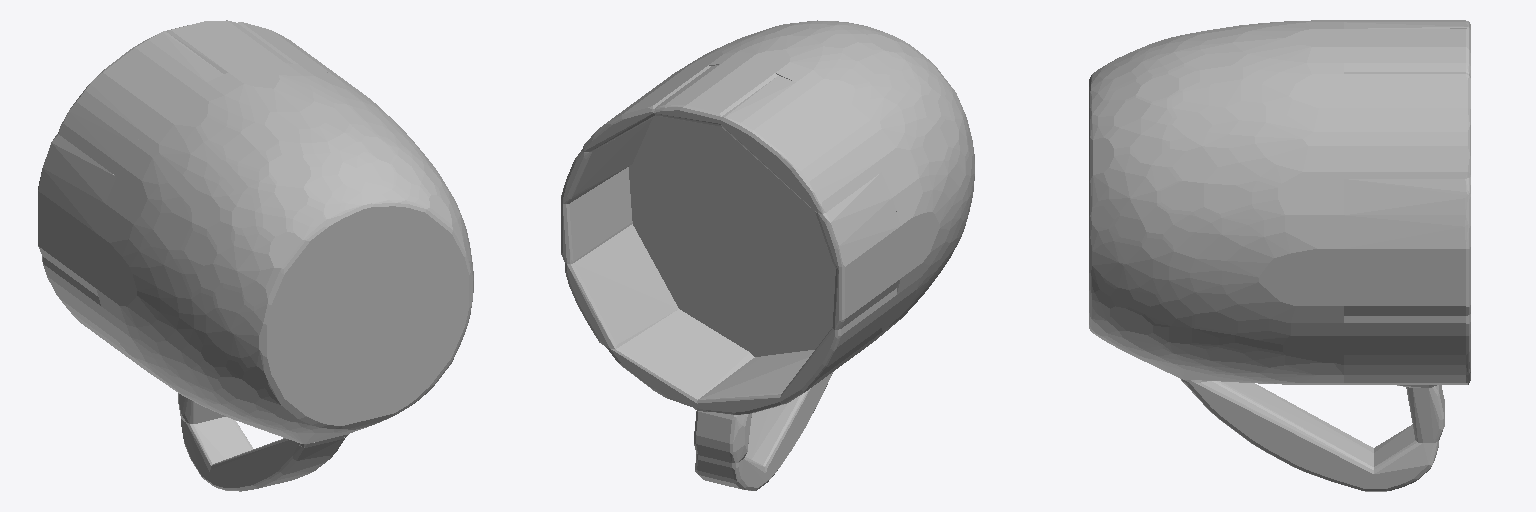
robot.urdf — root:
<robot name="root">
  <link name="link_coacd_convex_piece_0">
    <inertial>
      <origin xyz="0 0 0" rpy="0 0 0"/>
      <inertia ixx="8.38E-02" ixy="-2.96E-05" ixz="1.51E-05" iyy="9.46E-02" iyz="3.16E-03" izz="8.04E-02"/>
    </inertial>
    <visual>
      <origin xyz="0 0 0" rpy="0 0 0"/>
      <geometry>
        <mesh filename="coacd_convex_piece_0.obj" scale="1.0000E+00 1.0000E+00 1.0000E+00"/>
      </geometry>
      <material name="">
        <color rgba="7.50E-01 7.50E-01 7.50E-01 1"/>
      </material>
    </visual>
    <collision>
      <origin xyz="0 0 0" rpy="0 0 0"/>
      <geometry>
        <mesh filename="coacd_convex_piece_0.obj" scale="1.0000E+00 1.0000E+00 1.0000E+00"/>
      </geometry>
    </collision>
  </link>
  <link name="link_coacd_convex_piece_1">
    <inertial>
      <origin xyz="0 0 0" rpy="0 0 0"/>
      <inertia ixx="2.86E-05" ixy="3.21E-07" ixz="4.54E-07" iyy="2.03E-05" iyz="-2.23E-05" izz="9.23E-06"/>
    </inertial>
    <visual>
      <origin xyz="0 0 0" rpy="0 0 0"/>
      <geometry>
        <mesh filename="coacd_convex_piece_1.obj" scale="1.0000E+00 1.0000E+00 1.0000E+00"/>
      </geometry>
      <material name="">
        <color rgba="7.50E-01 7.50E-01 7.50E-01 1"/>
      </material>
    </visual>
    <collision>
      <origin xyz="0 0 0" rpy="0 0 0"/>
      <geometry>
        <mesh filename="coacd_convex_piece_1.obj" scale="1.0000E+00 1.0000E+00 1.0000E+00"/>
      </geometry>
    </collision>
  </link>
  <joint name="link_coacd_convex_piece_1_joint" type="fixed">
    <origin xyz="0 0 0" rpy="0 0 0"/>
    <parent link="link_coacd_convex_piece_0"/>
    <child link="link_coacd_convex_piece_1"/>
  </joint>
  <link name="link_coacd_convex_piece_2">
    <inertial>
      <origin xyz="0 0 0" rpy="0 0 0"/>
      <inertia ixx="1.52E-05" ixy="1.11E-09" ixz="-4.69E-09" iyy="1.29E-05" iyz="5.42E-06" izz="2.35E-06"/>
    </inertial>
    <visual>
      <origin xyz="0 0 0" rpy="0 0 0"/>
      <geometry>
        <mesh filename="coacd_convex_piece_2.obj" scale="1.0000E+00 1.0000E+00 1.0000E+00"/>
      </geometry>
      <material name="">
        <color rgba="7.50E-01 7.50E-01 7.50E-01 1"/>
      </material>
    </visual>
    <collision>
      <origin xyz="0 0 0" rpy="0 0 0"/>
      <geometry>
        <mesh filename="coacd_convex_piece_2.obj" scale="1.0000E+00 1.0000E+00 1.0000E+00"/>
      </geometry>
    </collision>
  </link>
  <joint name="link_coacd_convex_piece_2_joint" type="fixed">
    <origin xyz="0 0 0" rpy="0 0 0"/>
    <parent link="link_coacd_convex_piece_1"/>
    <child link="link_coacd_convex_piece_2"/>
  </joint>
  <link name="link_coacd_convex_piece_3">
    <inertial>
      <origin xyz="0 0 0" rpy="0 0 0"/>
      <inertia ixx="6.59E-03" ixy="1.41E-03" ixz="2.18E-03" iyy="5.85E-03" iyz="-3.49E-03" izz="3.03E-03"/>
    </inertial>
    <visual>
      <origin xyz="0 0 0" rpy="0 0 0"/>
      <geometry>
        <mesh filename="coacd_convex_piece_3.obj" scale="1.0000E+00 1.0000E+00 1.0000E+00"/>
      </geometry>
      <material name="">
        <color rgba="7.50E-01 7.50E-01 7.50E-01 1"/>
      </material>
    </visual>
    <collision>
      <origin xyz="0 0 0" rpy="0 0 0"/>
      <geometry>
        <mesh filename="coacd_convex_piece_3.obj" scale="1.0000E+00 1.0000E+00 1.0000E+00"/>
      </geometry>
    </collision>
  </link>
  <joint name="link_coacd_convex_piece_3_joint" type="fixed">
    <origin xyz="0 0 0" rpy="0 0 0"/>
    <parent link="link_coacd_convex_piece_2"/>
    <child link="link_coacd_convex_piece_3"/>
  </joint>
  <link name="link_coacd_convex_piece_4">
    <inertial>
      <origin xyz="0 0 0" rpy="0 0 0"/>
      <inertia ixx="3.79E-04" ixy="2.49E-07" ixz="-3.35E-07" iyy="1.57E-04" iyz="1.86E-04" izz="2.32E-04"/>
    </inertial>
    <visual>
      <origin xyz="0 0 0" rpy="0 0 0"/>
      <geometry>
        <mesh filename="coacd_convex_piece_4.obj" scale="1.0000E+00 1.0000E+00 1.0000E+00"/>
      </geometry>
      <material name="">
        <color rgba="7.50E-01 7.50E-01 7.50E-01 1"/>
      </material>
    </visual>
    <collision>
      <origin xyz="0 0 0" rpy="0 0 0"/>
      <geometry>
        <mesh filename="coacd_convex_piece_4.obj" scale="1.0000E+00 1.0000E+00 1.0000E+00"/>
      </geometry>
    </collision>
  </link>
  <joint name="link_coacd_convex_piece_4_joint" type="fixed">
    <origin xyz="0 0 0" rpy="0 0 0"/>
    <parent link="link_coacd_convex_piece_3"/>
    <child link="link_coacd_convex_piece_4"/>
  </joint>
  <link name="link_coacd_convex_piece_5">
    <inertial>
      <origin xyz="0 0 0" rpy="0 0 0"/>
      <inertia ixx="3.69E-03" ixy="-1.57E-06" ixz="5.48E-05" iyy="3.69E-03" iyz="-8.59E-05" izz="6.97E-05"/>
    </inertial>
    <visual>
      <origin xyz="0 0 0" rpy="0 0 0"/>
      <geometry>
        <mesh filename="coacd_convex_piece_5.obj" scale="1.0000E+00 1.0000E+00 1.0000E+00"/>
      </geometry>
      <material name="">
        <color rgba="7.50E-01 7.50E-01 7.50E-01 1"/>
      </material>
    </visual>
    <collision>
      <origin xyz="0 0 0" rpy="0 0 0"/>
      <geometry>
        <mesh filename="coacd_convex_piece_5.obj" scale="1.0000E+00 1.0000E+00 1.0000E+00"/>
      </geometry>
    </collision>
  </link>
  <joint name="link_coacd_convex_piece_5_joint" type="fixed">
    <origin xyz="0 0 0" rpy="0 0 0"/>
    <parent link="link_coacd_convex_piece_4"/>
    <child link="link_coacd_convex_piece_5"/>
  </joint>
  <link name="link_coacd_convex_piece_6">
    <inertial>
      <origin xyz="0 0 0" rpy="0 0 0"/>
      <inertia ixx="3.81E-03" ixy="-9.90E-04" ixz="-1.54E-03" iyy="3.58E-03" iyz="-2.05E-03" izz="1.99E-03"/>
    </inertial>
    <visual>
      <origin xyz="0 0 0" rpy="0 0 0"/>
      <geometry>
        <mesh filename="coacd_convex_piece_6.obj" scale="1.0000E+00 1.0000E+00 1.0000E+00"/>
      </geometry>
      <material name="">
        <color rgba="7.50E-01 7.50E-01 7.50E-01 1"/>
      </material>
    </visual>
    <collision>
      <origin xyz="0 0 0" rpy="0 0 0"/>
      <geometry>
        <mesh filename="coacd_convex_piece_6.obj" scale="1.0000E+00 1.0000E+00 1.0000E+00"/>
      </geometry>
    </collision>
  </link>
  <joint name="link_coacd_convex_piece_6_joint" type="fixed">
    <origin xyz="0 0 0" rpy="0 0 0"/>
    <parent link="link_coacd_convex_piece_5"/>
    <child link="link_coacd_convex_piece_6"/>
  </joint>
  <link name="link_coacd_convex_piece_7">
    <inertial>
      <origin xyz="0 0 0" rpy="0 0 0"/>
      <inertia ixx="3.59E-03" ixy="-1.10E-04" ixz="-2.05E-04" iyy="2.83E-03" iyz="-1.73E-03" izz="8.49E-04"/>
    </inertial>
    <visual>
      <origin xyz="0 0 0" rpy="0 0 0"/>
      <geometry>
        <mesh filename="coacd_convex_piece_7.obj" scale="1.0000E+00 1.0000E+00 1.0000E+00"/>
      </geometry>
      <material name="">
        <color rgba="7.50E-01 7.50E-01 7.50E-01 1"/>
      </material>
    </visual>
    <collision>
      <origin xyz="0 0 0" rpy="0 0 0"/>
      <geometry>
        <mesh filename="coacd_convex_piece_7.obj" scale="1.0000E+00 1.0000E+00 1.0000E+00"/>
      </geometry>
    </collision>
  </link>
  <joint name="link_coacd_convex_piece_7_joint" type="fixed">
    <origin xyz="0 0 0" rpy="0 0 0"/>
    <parent link="link_coacd_convex_piece_6"/>
    <child link="link_coacd_convex_piece_7"/>
  </joint>
  <link name="link_coacd_convex_piece_8">
    <inertial>
      <origin xyz="0 0 0" rpy="0 0 0"/>
      <inertia ixx="1.23E-03" ixy="-8.90E-04" ixz="-9.04E-04" iyy="1.75E-03" iyz="-8.17E-04" izz="1.81E-03"/>
    </inertial>
    <visual>
      <origin xyz="0 0 0" rpy="0 0 0"/>
      <geometry>
        <mesh filename="coacd_convex_piece_8.obj" scale="1.0000E+00 1.0000E+00 1.0000E+00"/>
      </geometry>
      <material name="">
        <color rgba="7.50E-01 7.50E-01 7.50E-01 1"/>
      </material>
    </visual>
    <collision>
      <origin xyz="0 0 0" rpy="0 0 0"/>
      <geometry>
        <mesh filename="coacd_convex_piece_8.obj" scale="1.0000E+00 1.0000E+00 1.0000E+00"/>
      </geometry>
    </collision>
  </link>
  <joint name="link_coacd_convex_piece_8_joint" type="fixed">
    <origin xyz="0 0 0" rpy="0 0 0"/>
    <parent link="link_coacd_convex_piece_7"/>
    <child link="link_coacd_convex_piece_8"/>
  </joint>
  <link name="link_coacd_convex_piece_9">
    <inertial>
      <origin xyz="0 0 0" rpy="0 0 0"/>
      <inertia ixx="5.29E-04" ixy="-7.80E-04" ixz="-3.38E-04" iyy="1.09E-03" iyz="-3.37E-04" izz="1.62E-03"/>
    </inertial>
    <visual>
      <origin xyz="0 0 0" rpy="0 0 0"/>
      <geometry>
        <mesh filename="coacd_convex_piece_9.obj" scale="1.0000E+00 1.0000E+00 1.0000E+00"/>
      </geometry>
      <material name="">
        <color rgba="7.50E-01 7.50E-01 7.50E-01 1"/>
      </material>
    </visual>
    <collision>
      <origin xyz="0 0 0" rpy="0 0 0"/>
      <geometry>
        <mesh filename="coacd_convex_piece_9.obj" scale="1.0000E+00 1.0000E+00 1.0000E+00"/>
      </geometry>
    </collision>
  </link>
  <joint name="link_coacd_convex_piece_9_joint" type="fixed">
    <origin xyz="0 0 0" rpy="0 0 0"/>
    <parent link="link_coacd_convex_piece_8"/>
    <child link="link_coacd_convex_piece_9"/>
  </joint>
  <link name="link_coacd_convex_piece_10">
    <inertial>
      <origin xyz="0 0 0" rpy="0 0 0"/>
      <inertia ixx="1.06E-03" ixy="7.83E-04" ixz="7.76E-04" iyy="1.50E-03" iyz="-7.03E-04" izz="1.59E-03"/>
    </inertial>
    <visual>
      <origin xyz="0 0 0" rpy="0 0 0"/>
      <geometry>
        <mesh filename="coacd_convex_piece_10.obj" scale="1.0000E+00 1.0000E+00 1.0000E+00"/>
      </geometry>
      <material name="">
        <color rgba="7.50E-01 7.50E-01 7.50E-01 1"/>
      </material>
    </visual>
    <collision>
      <origin xyz="0 0 0" rpy="0 0 0"/>
      <geometry>
        <mesh filename="coacd_convex_piece_10.obj" scale="1.0000E+00 1.0000E+00 1.0000E+00"/>
      </geometry>
    </collision>
  </link>
  <joint name="link_coacd_convex_piece_10_joint" type="fixed">
    <origin xyz="0 0 0" rpy="0 0 0"/>
    <parent link="link_coacd_convex_piece_9"/>
    <child link="link_coacd_convex_piece_10"/>
  </joint>
  <link name="link_coacd_convex_piece_11">
    <inertial>
      <origin xyz="0 0 0" rpy="0 0 0"/>
      <inertia ixx="5.71E-04" ixy="8.30E-04" ixz="3.68E-04" iyy="1.16E-03" iyz="-3.65E-04" izz="1.72E-03"/>
    </inertial>
    <visual>
      <origin xyz="0 0 0" rpy="0 0 0"/>
      <geometry>
        <mesh filename="coacd_convex_piece_11.obj" scale="1.0000E+00 1.0000E+00 1.0000E+00"/>
      </geometry>
      <material name="">
        <color rgba="7.50E-01 7.50E-01 7.50E-01 1"/>
      </material>
    </visual>
    <collision>
      <origin xyz="0 0 0" rpy="0 0 0"/>
      <geometry>
        <mesh filename="coacd_convex_piece_11.obj" scale="1.0000E+00 1.0000E+00 1.0000E+00"/>
      </geometry>
    </collision>
  </link>
  <joint name="link_coacd_convex_piece_11_joint" type="fixed">
    <origin xyz="0 0 0" rpy="0 0 0"/>
    <parent link="link_coacd_convex_piece_10"/>
    <child link="link_coacd_convex_piece_11"/>
  </joint>
  <link name="link_coacd_convex_piece_12">
    <inertial>
      <origin xyz="0 0 0" rpy="0 0 0"/>
      <inertia ixx="9.45E-04" ixy="-1.32E-03" ixz="2.75E-04" iyy="1.40E-03" iyz="6.96E-05" izz="2.62E-03"/>
    </inertial>
    <visual>
      <origin xyz="0 0 0" rpy="0 0 0"/>
      <geometry>
        <mesh filename="coacd_convex_piece_12.obj" scale="1.0000E+00 1.0000E+00 1.0000E+00"/>
      </geometry>
      <material name="">
        <color rgba="7.50E-01 7.50E-01 7.50E-01 1"/>
      </material>
    </visual>
    <collision>
      <origin xyz="0 0 0" rpy="0 0 0"/>
      <geometry>
        <mesh filename="coacd_convex_piece_12.obj" scale="1.0000E+00 1.0000E+00 1.0000E+00"/>
      </geometry>
    </collision>
  </link>
  <joint name="link_coacd_convex_piece_12_joint" type="fixed">
    <origin xyz="0 0 0" rpy="0 0 0"/>
    <parent link="link_coacd_convex_piece_11"/>
    <child link="link_coacd_convex_piece_12"/>
  </joint>
  <link name="link_coacd_convex_piece_13">
    <inertial>
      <origin xyz="0 0 0" rpy="0 0 0"/>
      <inertia ixx="1.66E-03" ixy="-5.98E-04" ixz="4.34E-04" iyy="8.42E-04" iyz="7.48E-04" izz="1.54E-03"/>
    </inertial>
    <visual>
      <origin xyz="0 0 0" rpy="0 0 0"/>
      <geometry>
        <mesh filename="coacd_convex_piece_13.obj" scale="1.0000E+00 1.0000E+00 1.0000E+00"/>
      </geometry>
      <material name="">
        <color rgba="7.50E-01 7.50E-01 7.50E-01 1"/>
      </material>
    </visual>
    <collision>
      <origin xyz="0 0 0" rpy="0 0 0"/>
      <geometry>
        <mesh filename="coacd_convex_piece_13.obj" scale="1.0000E+00 1.0000E+00 1.0000E+00"/>
      </geometry>
    </collision>
  </link>
  <joint name="link_coacd_convex_piece_13_joint" type="fixed">
    <origin xyz="0 0 0" rpy="0 0 0"/>
    <parent link="link_coacd_convex_piece_12"/>
    <child link="link_coacd_convex_piece_13"/>
  </joint>
  <link name="link_coacd_convex_piece_14">
    <inertial>
      <origin xyz="0 0 0" rpy="0 0 0"/>
      <inertia ixx="1.67E-03" ixy="4.83E-04" ixz="-3.67E-04" iyy="7.74E-04" iyz="7.62E-04" izz="1.40E-03"/>
    </inertial>
    <visual>
      <origin xyz="0 0 0" rpy="0 0 0"/>
      <geometry>
        <mesh filename="coacd_convex_piece_14.obj" scale="1.0000E+00 1.0000E+00 1.0000E+00"/>
      </geometry>
      <material name="">
        <color rgba="7.50E-01 7.50E-01 7.50E-01 1"/>
      </material>
    </visual>
    <collision>
      <origin xyz="0 0 0" rpy="0 0 0"/>
      <geometry>
        <mesh filename="coacd_convex_piece_14.obj" scale="1.0000E+00 1.0000E+00 1.0000E+00"/>
      </geometry>
    </collision>
  </link>
  <joint name="link_coacd_convex_piece_14_joint" type="fixed">
    <origin xyz="0 0 0" rpy="0 0 0"/>
    <parent link="link_coacd_convex_piece_13"/>
    <child link="link_coacd_convex_piece_14"/>
  </joint>
  <link name="link_coacd_convex_piece_15">
    <inertial>
      <origin xyz="0 0 0" rpy="0 0 0"/>
      <inertia ixx="1.19E-03" ixy="1.53E-03" ixz="-3.76E-04" iyy="1.61E-03" iyz="1.50E-04" izz="3.03E-03"/>
    </inertial>
    <visual>
      <origin xyz="0 0 0" rpy="0 0 0"/>
      <geometry>
        <mesh filename="coacd_convex_piece_15.obj" scale="1.0000E+00 1.0000E+00 1.0000E+00"/>
      </geometry>
      <material name="">
        <color rgba="7.50E-01 7.50E-01 7.50E-01 1"/>
      </material>
    </visual>
    <collision>
      <origin xyz="0 0 0" rpy="0 0 0"/>
      <geometry>
        <mesh filename="coacd_convex_piece_15.obj" scale="1.0000E+00 1.0000E+00 1.0000E+00"/>
      </geometry>
    </collision>
  </link>
  <joint name="link_coacd_convex_piece_15_joint" type="fixed">
    <origin xyz="0 0 0" rpy="0 0 0"/>
    <parent link="link_coacd_convex_piece_14"/>
    <child link="link_coacd_convex_piece_15"/>
  </joint>
  <link name="link_coacd_convex_piece_16">
    <inertial>
      <origin xyz="0 0 0" rpy="0 0 0"/>
      <inertia ixx="1.19E-03" ixy="5.32E-06" ixz="-5.85E-06" iyy="6.41E-04" iyz="5.88E-04" izz="5.59E-04"/>
    </inertial>
    <visual>
      <origin xyz="0 0 0" rpy="0 0 0"/>
      <geometry>
        <mesh filename="coacd_convex_piece_16.obj" scale="1.0000E+00 1.0000E+00 1.0000E+00"/>
      </geometry>
      <material name="">
        <color rgba="7.50E-01 7.50E-01 7.50E-01 1"/>
      </material>
    </visual>
    <collision>
      <origin xyz="0 0 0" rpy="0 0 0"/>
      <geometry>
        <mesh filename="coacd_convex_piece_16.obj" scale="1.0000E+00 1.0000E+00 1.0000E+00"/>
      </geometry>
    </collision>
  </link>
  <joint name="link_coacd_convex_piece_16_joint" type="fixed">
    <origin xyz="0 0 0" rpy="0 0 0"/>
    <parent link="link_coacd_convex_piece_15"/>
    <child link="link_coacd_convex_piece_16"/>
  </joint>
  <link name="link_coacd_convex_piece_17">
    <inertial>
      <origin xyz="0 0 0" rpy="0 0 0"/>
      <inertia ixx="1.95E-03" ixy="-8.61E-06" ixz="1.57E-05" iyy="1.49E-03" iyz="8.21E-04" izz="4.75E-04"/>
    </inertial>
    <visual>
      <origin xyz="0 0 0" rpy="0 0 0"/>
      <geometry>
        <mesh filename="coacd_convex_piece_17.obj" scale="1.0000E+00 1.0000E+00 1.0000E+00"/>
      </geometry>
      <material name="">
        <color rgba="7.50E-01 7.50E-01 7.50E-01 1"/>
      </material>
    </visual>
    <collision>
      <origin xyz="0 0 0" rpy="0 0 0"/>
      <geometry>
        <mesh filename="coacd_convex_piece_17.obj" scale="1.0000E+00 1.0000E+00 1.0000E+00"/>
      </geometry>
    </collision>
  </link>
  <joint name="link_coacd_convex_piece_17_joint" type="fixed">
    <origin xyz="0 0 0" rpy="0 0 0"/>
    <parent link="link_coacd_convex_piece_16"/>
    <child link="link_coacd_convex_piece_17"/>
  </joint>
</robot>

--- Render facts (derived) ---
3 views of the same robot in one strip: view 1: azimuth 30°, elevation 25°; view 2: azimuth 150°, elevation 25°; view 3: azimuth 270°, elevation 25° (orthographic).
Model root with 18 links and 17 joints (17 fixed), rooted at link_coacd_convex_piece_0, posed every joint at zero.
Visible links, largest first — view 1: link_coacd_convex_piece_0, link_coacd_convex_piece_3, link_coacd_convex_piece_10, link_coacd_convex_piece_5, link_coacd_convex_piece_7, link_coacd_convex_piece_11, link_coacd_convex_piece_17, link_coacd_convex_piece_15, link_coacd_convex_piece_6, link_coacd_convex_piece_16; view 2: link_coacd_convex_piece_0, link_coacd_convex_piece_3, link_coacd_convex_piece_12, link_coacd_convex_piece_13, link_coacd_convex_piece_10, link_coacd_convex_piece_9, link_coacd_convex_piece_7, link_coacd_convex_piece_14, link_coacd_convex_piece_11, link_coacd_convex_piece_15, link_coacd_convex_piece_5, link_coacd_convex_piece_8 (+3 smaller); view 3: link_coacd_convex_piece_0, link_coacd_convex_piece_6, link_coacd_convex_piece_8, link_coacd_convex_piece_5, link_coacd_convex_piece_9, link_coacd_convex_piece_12, link_coacd_convex_piece_7, link_coacd_convex_piece_17, link_coacd_convex_piece_16, link_coacd_convex_piece_13, link_coacd_convex_piece_3.
Link boxes in pixels (x1,y1,x2,y2): link_coacd_convex_piece_0: [97, 63, 473, 443]; link_coacd_convex_piece_3: [58, 31, 223, 176]; link_coacd_convex_piece_10: [38, 134, 116, 235]; link_coacd_convex_piece_5: [210, 437, 345, 491]; link_coacd_convex_piece_7: [166, 20, 292, 73]; link_coacd_convex_piece_11: [38, 194, 98, 296]; link_coacd_convex_piece_17: [181, 417, 252, 483]; link_coacd_convex_piece_15: [42, 256, 135, 362]; link_coacd_convex_piece_6: [238, 22, 346, 81]; link_coacd_convex_piece_16: [178, 393, 225, 423]; link_coacd_convex_piece_0: [629, 20, 974, 356]; link_coacd_convex_piece_3: [721, 76, 880, 213]; link_coacd_convex_piece_12: [565, 224, 678, 348]; link_coacd_convex_piece_13: [606, 309, 754, 408]; link_coacd_convex_piece_10: [815, 172, 900, 269]; link_coacd_convex_piece_9: [561, 167, 632, 263]; link_coacd_convex_piece_7: [654, 64, 778, 126]; link_coacd_convex_piece_14: [697, 350, 814, 414]; link_coacd_convex_piece_11: [833, 229, 900, 329]; link_coacd_convex_piece_15: [780, 288, 896, 404]; link_coacd_convex_piece_5: [745, 372, 832, 483]; link_coacd_convex_piece_8: [561, 118, 652, 203]; link_coacd_convex_piece_0: [1089, 20, 1343, 384]; link_coacd_convex_piece_6: [1344, 72, 1470, 178]; link_coacd_convex_piece_8: [1344, 177, 1470, 253]; link_coacd_convex_piece_5: [1182, 381, 1373, 491]; link_coacd_convex_piece_9: [1344, 252, 1470, 315]; link_coacd_convex_piece_12: [1344, 314, 1470, 374]; link_coacd_convex_piece_7: [1344, 28, 1470, 75]; link_coacd_convex_piece_17: [1374, 424, 1438, 491]; link_coacd_convex_piece_16: [1406, 385, 1444, 442]; link_coacd_convex_piece_13: [1344, 373, 1470, 384]; link_coacd_convex_piece_3: [1344, 20, 1470, 30].
Bounding box of the posed robot: 1.14 × 1.21 × 1.55 m (x, y, z).
Meshes: 18 distinct files referenced, 18 mesh visuals loaded (18 OBJ).
